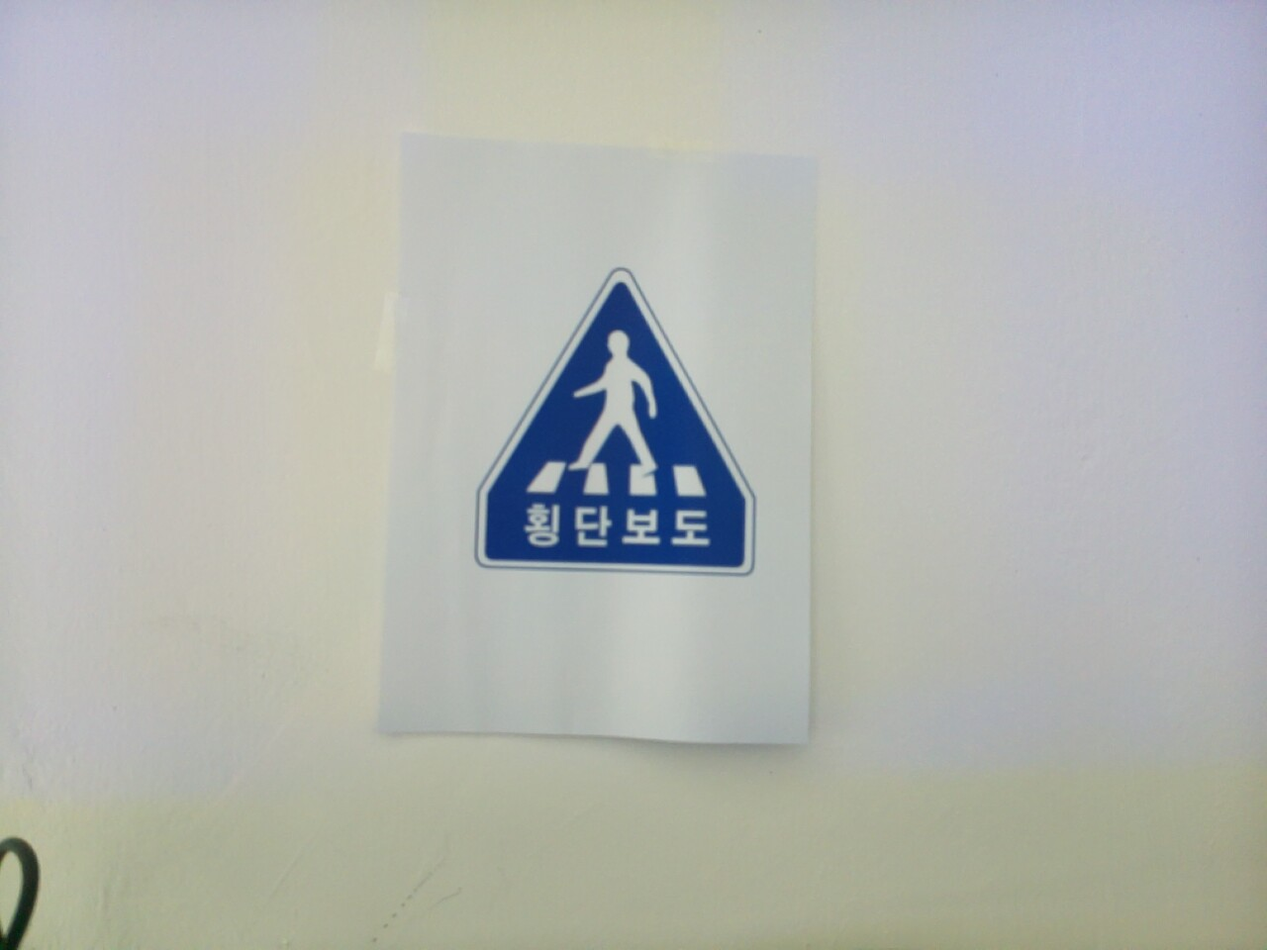crosswalk: (475, 273, 755, 577)
